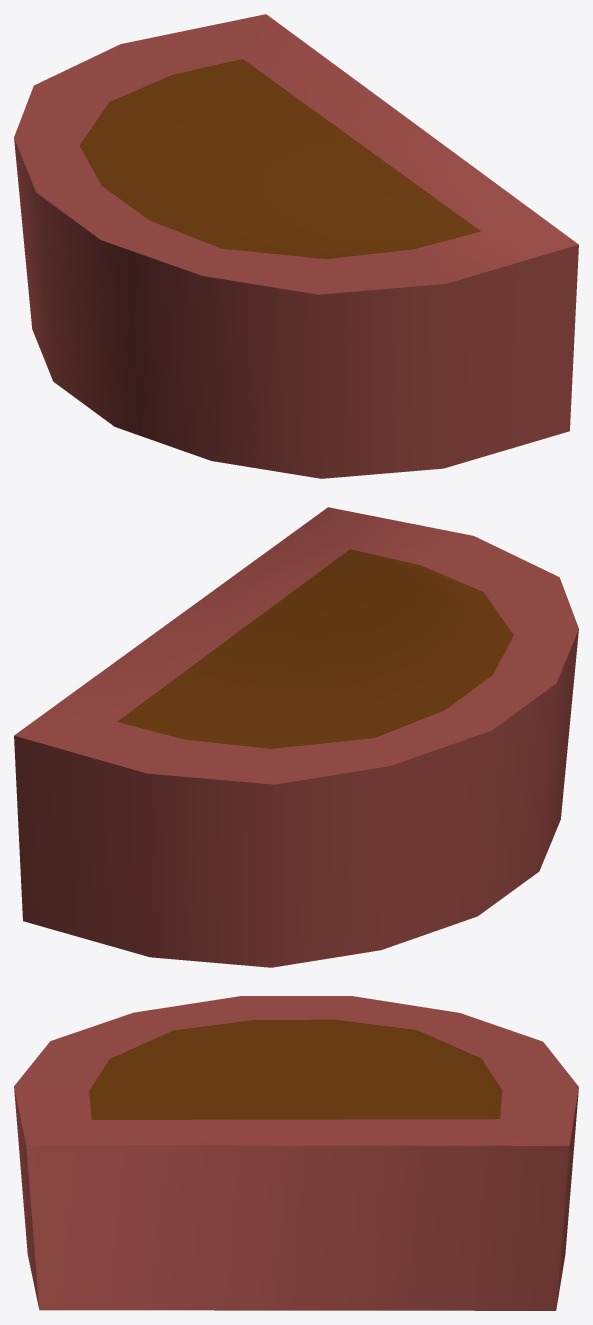
Rendered from flower_pot_06.fbx.
The picture shows the model from 3 angles, top to bottom: view 1: azimuth 30°, elevation 25°; view 2: azimuth 150°, elevation 25°; view 3: azimuth 270°, elevation 25°; orthographic projection. The views are drawn at different scales.
Parts seen in each view (by area): view 1: flower_pot_06; view 2: flower_pot_06; view 3: flower_pot_06.
Boxes of the visible parts, x1,y1,x2,y2 form: flower_pot_06: [14, 14, 578, 478]; flower_pot_06: [14, 507, 578, 967]; flower_pot_06: [14, 996, 578, 1310].
Size of the model in its own units: 87.42 by 45.07 by 139.
